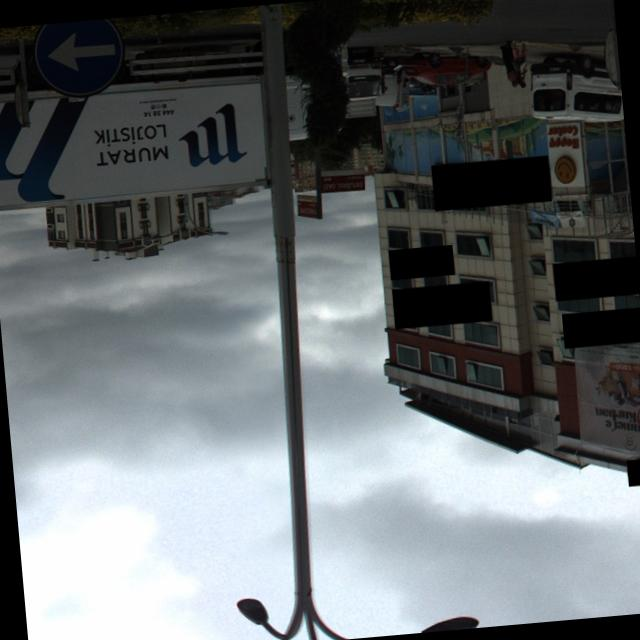SignStore: (429, 160, 550, 201), (390, 288, 490, 319), (551, 261, 639, 291), (560, 312, 640, 338), (387, 249, 453, 274), (625, 459, 640, 478)
